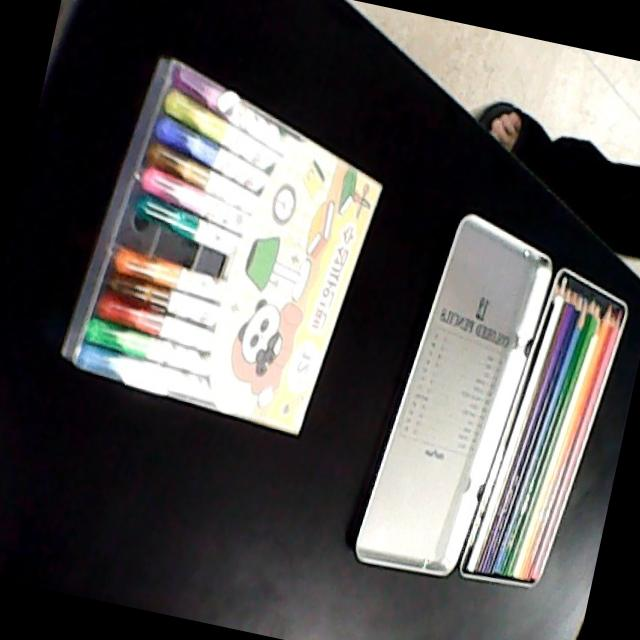color: (453, 260, 636, 594)
signpen: (50, 39, 389, 450)
